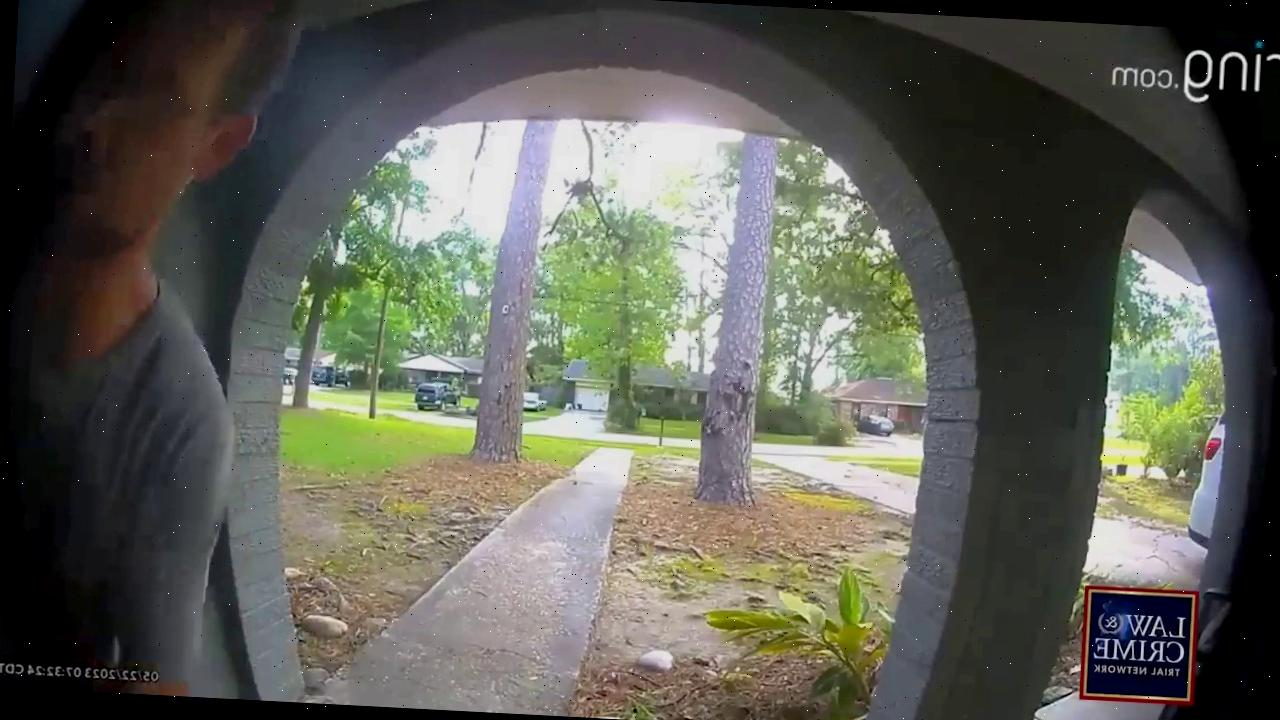suspicion: (0, 0, 353, 686)
